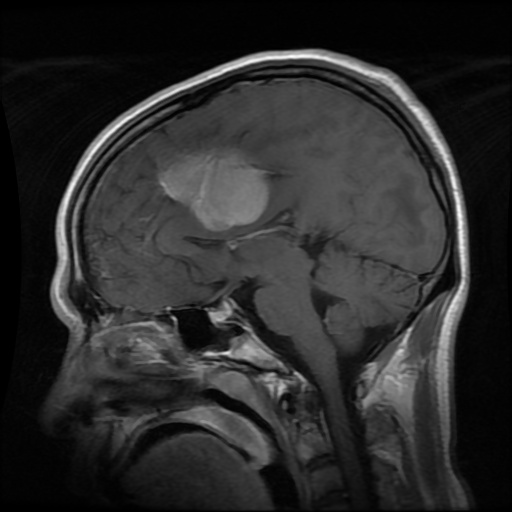meningioma: (159, 146, 268, 231)
